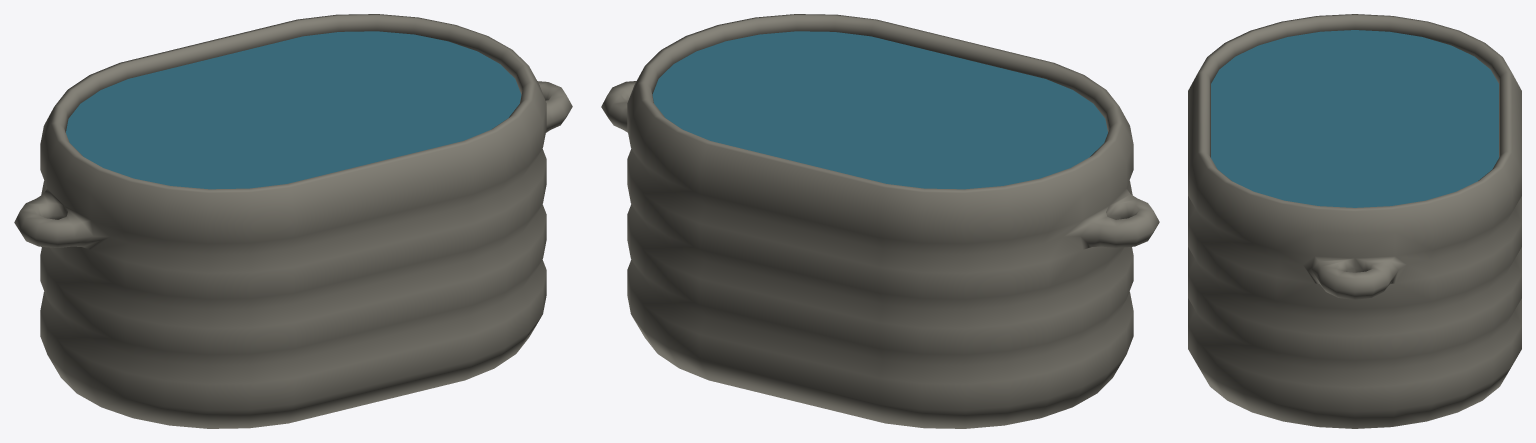
The model's file is itch_assetquest_pond_metal_tub.glb.
3 views of the same model, side by side, from view 1: azimuth 30°, elevation 25°; view 2: azimuth 150°, elevation 25°; view 3: azimuth 270°, elevation 25° (orthographic). The views are drawn at different scales.
Parts seen in each view (by area): view 1: Metal_Tub, Metal_Tub_Water; view 2: Metal_Tub, Metal_Tub_Water; view 3: Metal_Tub, Metal_Tub_Water.
Part boxes in pixels (<box>): Metal_Tub: <box>14,14,572,428</box>; Metal_Tub_Water: <box>66,31,521,189</box>; Metal_Tub: <box>601,14,1159,428</box>; Metal_Tub_Water: <box>652,31,1107,189</box>; Metal_Tub: <box>1188,14,1521,428</box>; Metal_Tub_Water: <box>1211,30,1498,207</box>.
Size of the model in its own units: 0.96 by 0.4 by 0.5506.
